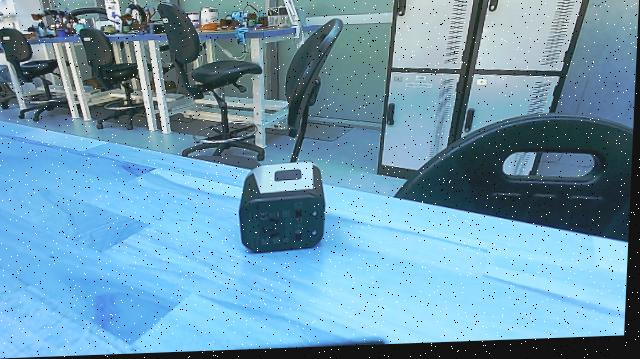adapter: (234, 162, 334, 263)
